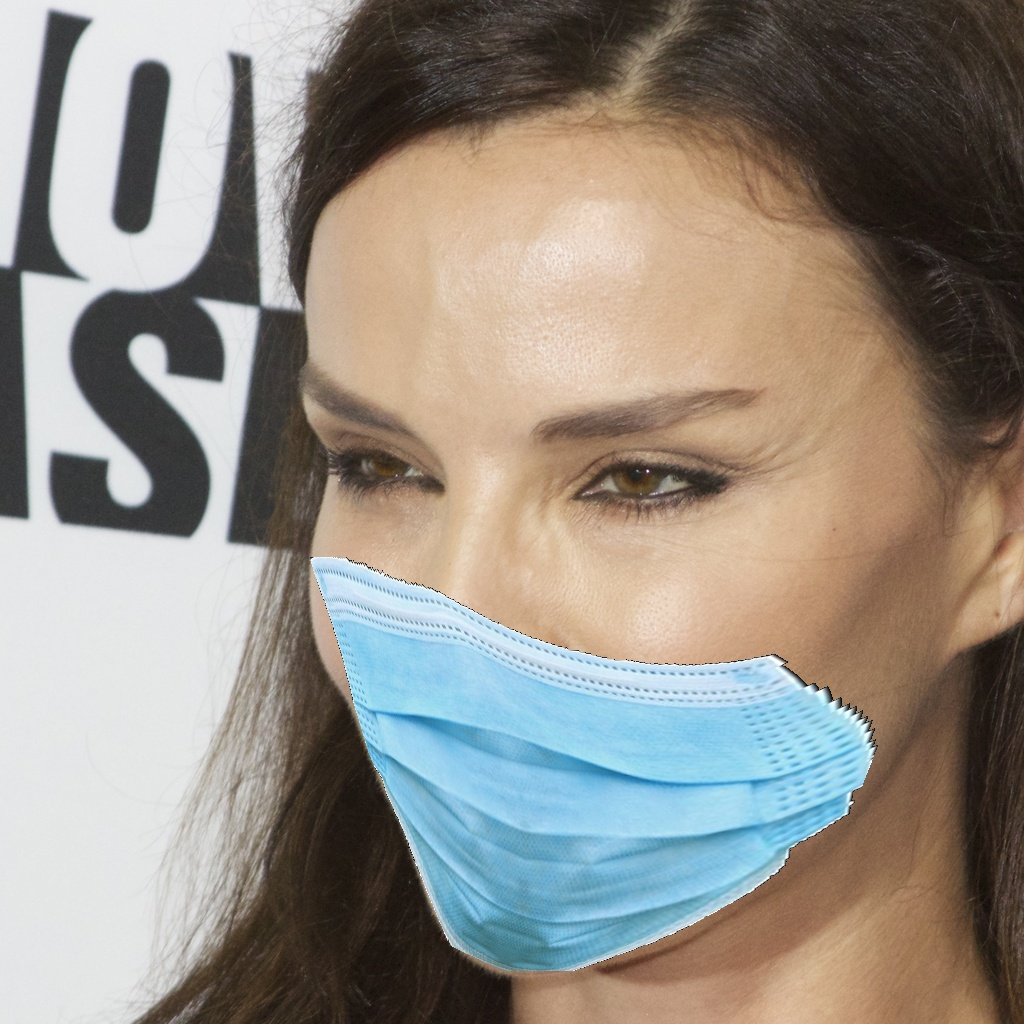Mask: (303, 355, 904, 984)
